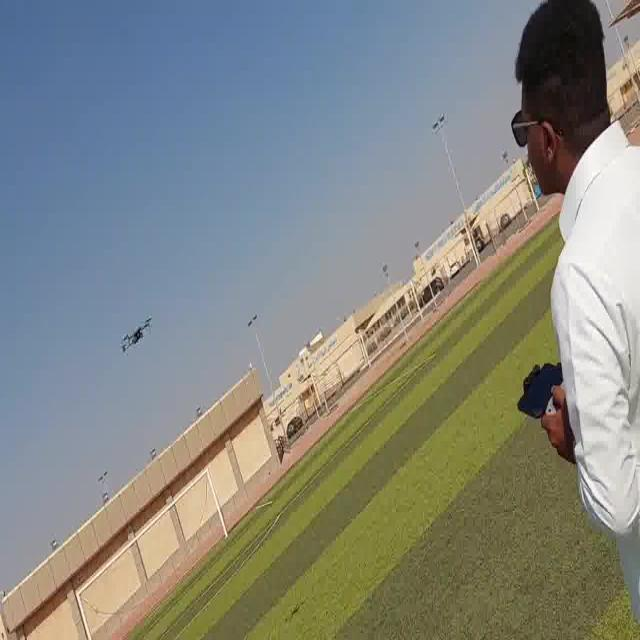drone: (119, 298, 151, 364)
